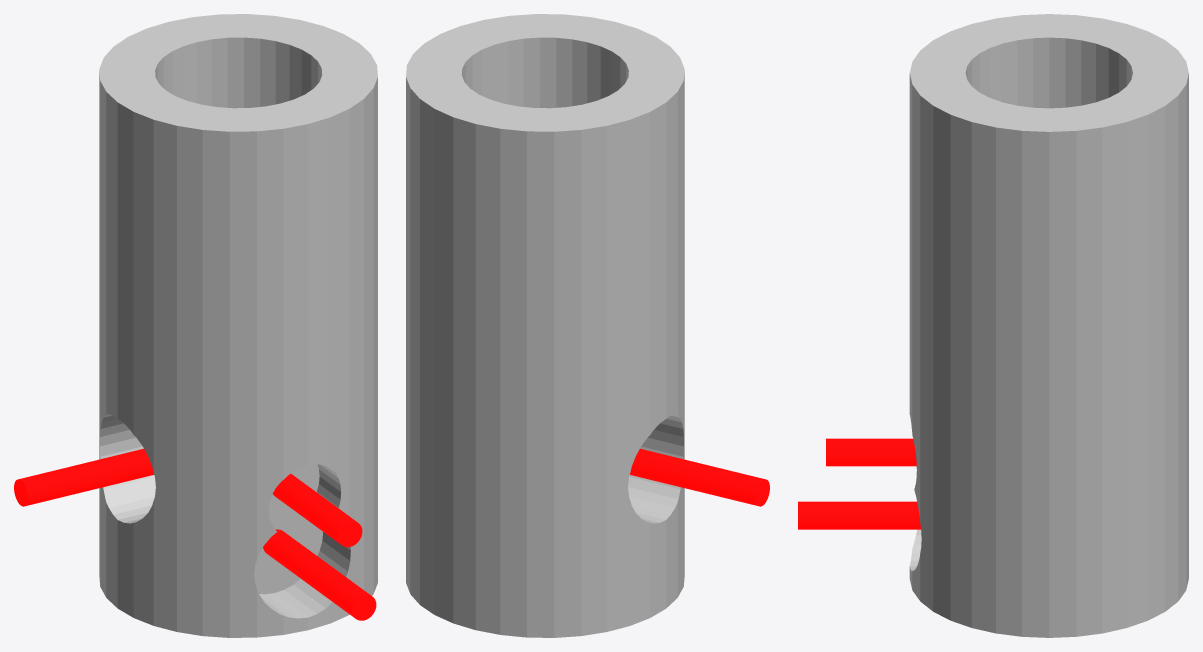
File: LOT130_ed81b815.glb
3 renders of one model, left to right at view 1: azimuth 30°, elevation 25°; view 2: azimuth 150°, elevation 25°; view 3: azimuth 270°, elevation 25°, orthographic.
Parts seen in each view (by area): view 1: Cylinder, Cylinder.004, Cylinder.002, Cylinder.006; view 2: Cylinder, Cylinder.004; view 3: Cylinder, Cylinder.002, Cylinder.006.
Part boxes in pixels (<box>): Cylinder: <box>99,14,377,637</box>; Cylinder.004: <box>14,448,153,506</box>; Cylinder.002: <box>263,529,376,620</box>; Cylinder.006: <box>272,473,362,547</box>; Cylinder: <box>406,14,684,637</box>; Cylinder.004: <box>630,448,769,506</box>; Cylinder: <box>909,14,1188,637</box>; Cylinder.002: <box>798,501,920,529</box>; Cylinder.006: <box>826,438,916,466</box>.
Bounding box in the file's own units: 1.4 × 2 × 1.4.
